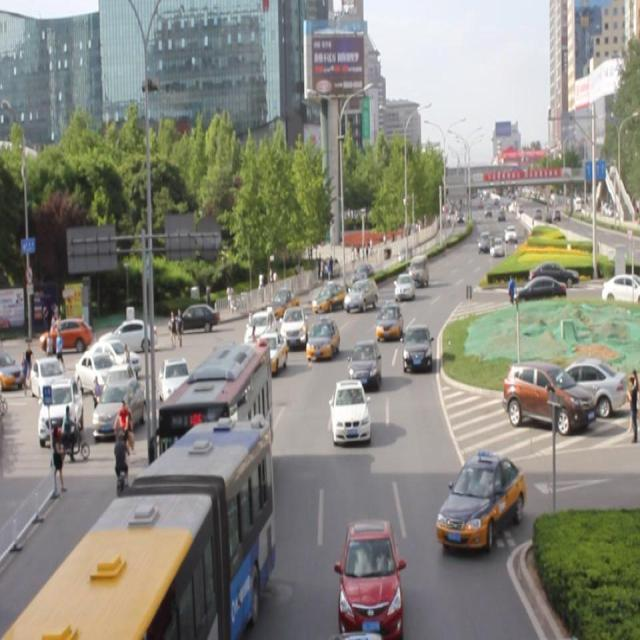car: (434, 447, 524, 547), (337, 515, 399, 640), (328, 377, 370, 441), (211, 345, 245, 395), (277, 303, 312, 351), (248, 334, 288, 376), (304, 315, 340, 358), (347, 338, 379, 386), (401, 321, 430, 370), (311, 279, 348, 315), (244, 308, 276, 349), (343, 276, 377, 308), (374, 300, 400, 336), (392, 270, 414, 298)
truck: (407, 252, 428, 284)
van: (1, 416, 273, 640), (163, 347, 275, 513)
